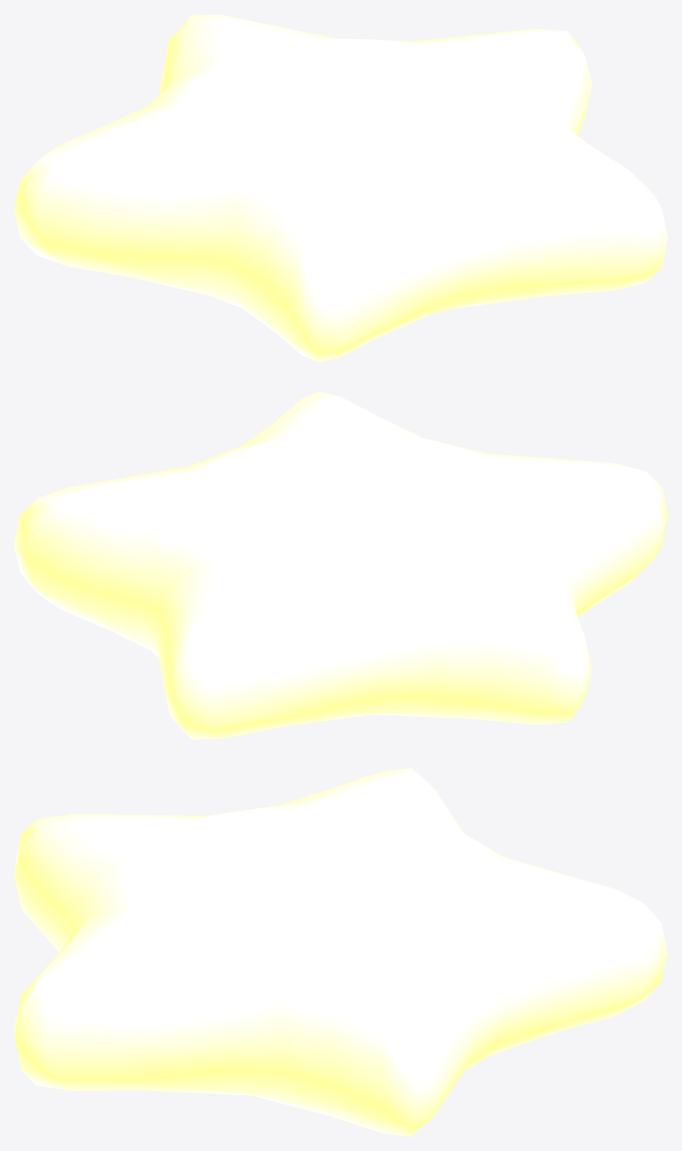
Rendered from star.glb.
The picture shows the model from 3 angles, top to bottom: view 1: azimuth 30°, elevation 25°; view 2: azimuth 150°, elevation 25°; view 3: azimuth 270°, elevation 25°; orthographic projection. The views are drawn at different scales.
Visible parts, largest first — view 1: Circle; view 2: Circle; view 3: Circle.
Boxes of the visible parts, box(x1,y1,x2,y2) form: Circle: box(14, 14, 667, 362); Circle: box(14, 391, 667, 739); Circle: box(14, 768, 667, 1136).
Size of the model in its own units: 1.65 by 0.4349 by 1.57.
